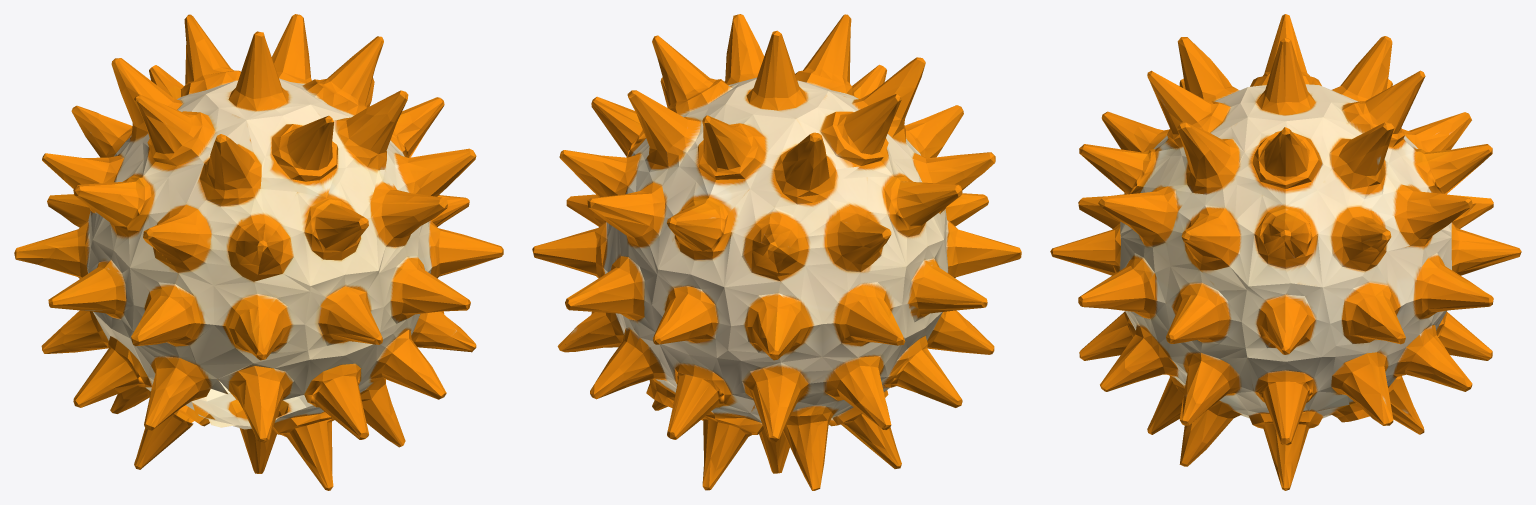
The model's file is prop-pollen.glb.
3 renders of one model, left to right at view 1: azimuth 30°, elevation 25°; view 2: azimuth 150°, elevation 25°; view 3: azimuth 270°, elevation 25°, orthographic. The views are drawn at different scales.
Parts seen in each view (by area): view 1: prop-pollen_Mesh; view 2: prop-pollen_Mesh; view 3: prop-pollen_Mesh.
Part boxes in pixels (left/top/right/bottom): prop-pollen_Mesh: left=14, top=14, right=503, bottom=490; prop-pollen_Mesh: left=532, top=14, right=1021, bottom=490; prop-pollen_Mesh: left=1050, top=14, right=1521, bottom=490.
Bounding box in the file's own units: 2.69 × 2.7 × 2.69.
Materials: 1 (1 with a texture image).
